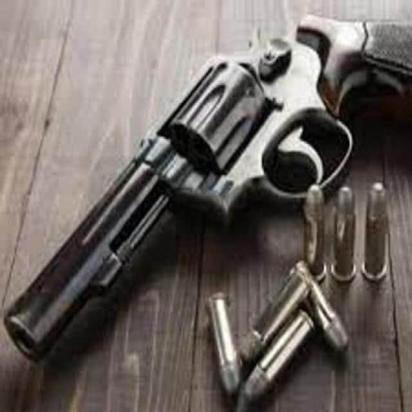Gun: (2, 5, 412, 379)
